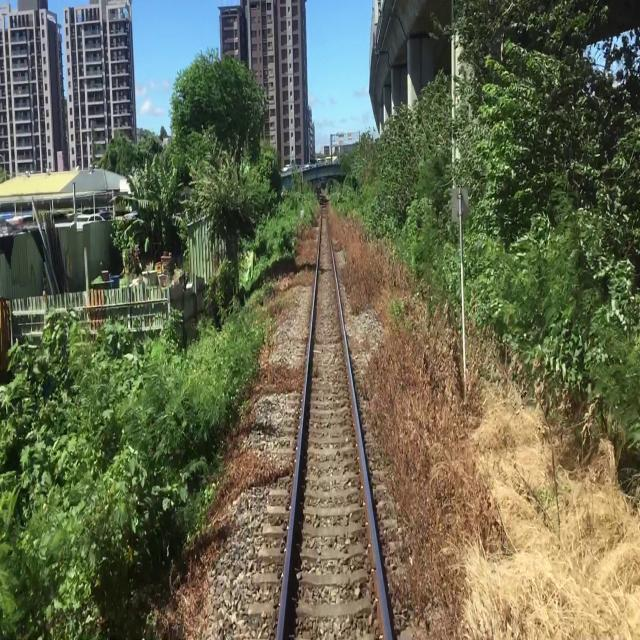rail: (231, 199, 427, 639)
